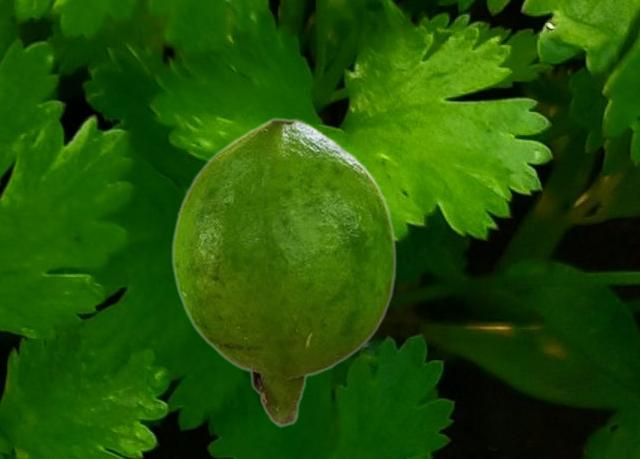guava: (171, 117, 396, 427)
